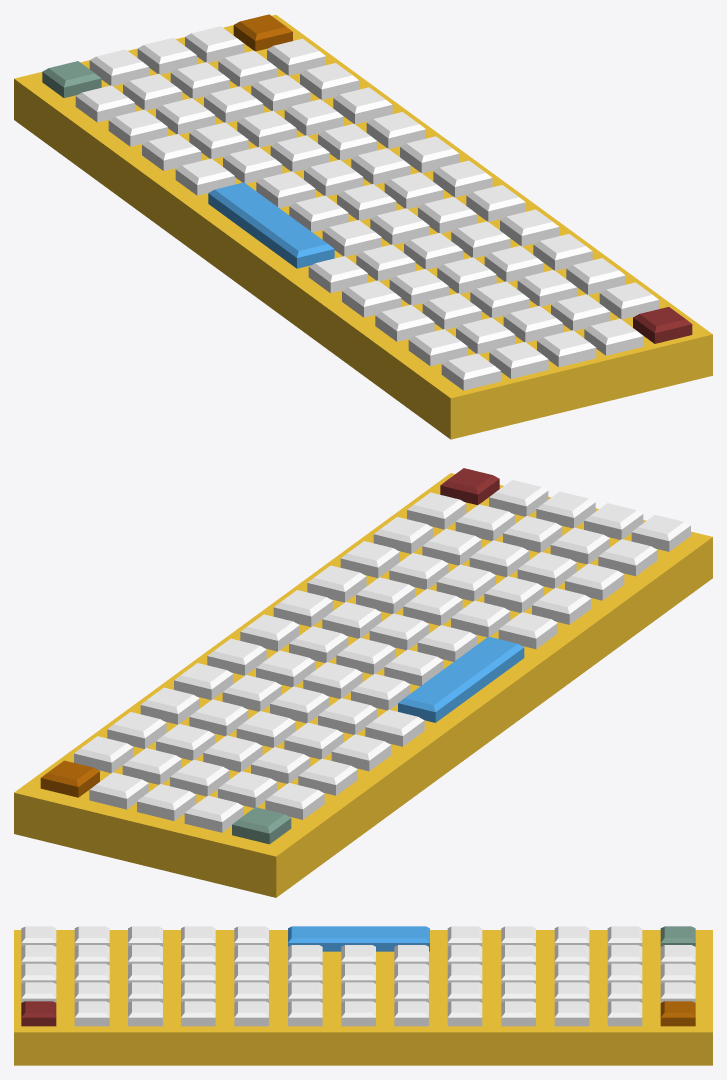
File: Keyboard_3.fbx
3 renders of one model, top to bottom at view 1: azimuth 30°, elevation 25°; view 2: azimuth 150°, elevation 25°; view 3: azimuth 270°, elevation 25°, orthographic. The views are drawn at different scales.
Parts seen in each view (by area): view 1: Keyboard_3; view 2: Keyboard_3; view 3: Keyboard_3.
Boxes of the visible parts, x1=… form: Keyboard_3: x1=14, y1=14, x2=712, y2=439; Keyboard_3: x1=14, y1=468, x2=712, y2=897; Keyboard_3: x1=14, y1=926, x2=712, y2=1065.
Bounding box in the file's own units: 0.0908 × 0.0186 × 0.2621.
